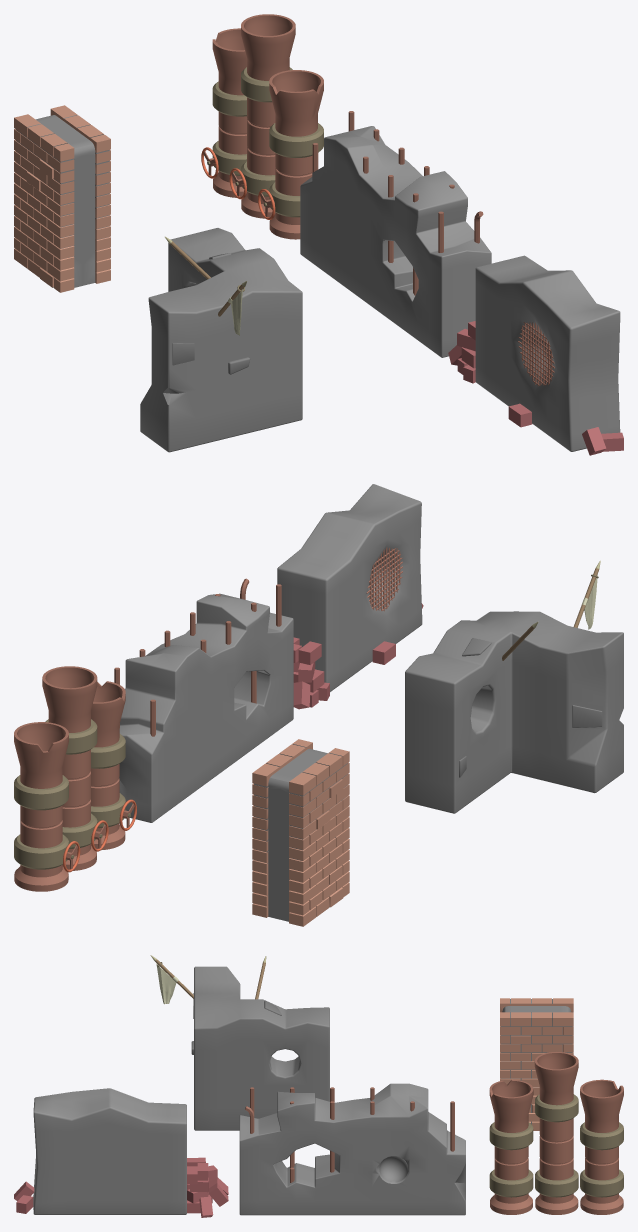
Rendered from Wall1.fbx.
3 views of the same model, one above another, from view 1: azimuth 30°, elevation 25°; view 2: azimuth 150°, elevation 25°; view 3: azimuth 270°, elevation 25° (orthographic). The views are drawn at different scales.
Parts seen in each view (by area): view 1: Cube.001, Wall1, Wall2, Wall3, Cube; view 2: Cube.001, Wall1, Wall2, Wall3, Cube; view 3: Wall1, Wall2, Cube.001, Wall3, Cube.
Part boxes in pixels (x1=…): Cube.001: x1=140, y1=228, x2=302, y2=452; Wall1: x1=300, y1=111, x2=491, y2=357; Wall2: x1=448, y1=255, x2=623, y2=455; Wall3: x1=201, y1=14, x2=323, y2=239; Cube: x1=14, y1=105, x2=110, y2=292; Cube.001: x1=405, y1=560, x2=623, y2=813; Wall1: x1=114, y1=578, x2=293, y2=822; Wall2: x1=277, y1=484, x2=423, y2=709; Wall3: x1=14, y1=666, x2=136, y2=891; Cube: x1=252, y1=739, x2=349, y2=926; Wall1: x1=239, y1=1083, x2=465, y2=1215; Wall2: x1=14, y1=1088, x2=228, y2=1217; Cube.001: x1=150, y1=955, x2=329, y2=1130; Wall3: x1=489, y1=1052, x2=623, y2=1214; Cube: x1=500, y1=998, x2=573, y2=1130.
Bounding box in the file's own units: 543 × 258 × 981.
